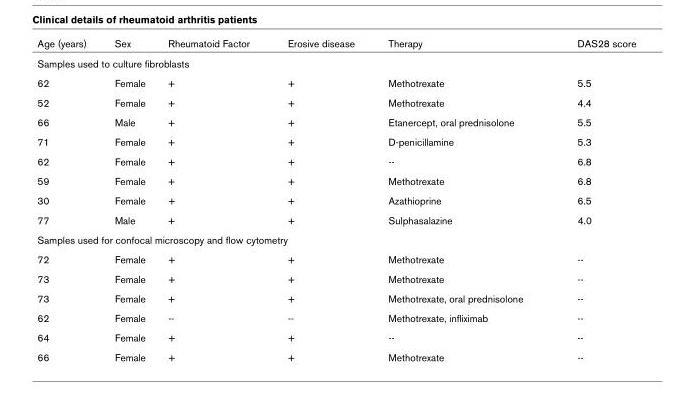table: (36, 36, 635, 362)
table column: (370, 36, 549, 362), (156, 36, 267, 362), (267, 36, 370, 362), (549, 36, 635, 362), (36, 36, 99, 362), (99, 36, 156, 362)
table column header: (36, 36, 635, 52)
table projected row header: (36, 52, 635, 72), (36, 229, 635, 248)
table row: (36, 52, 635, 72), (36, 72, 635, 92), (36, 111, 635, 131), (36, 131, 635, 151), (36, 170, 635, 190), (36, 209, 635, 229), (36, 248, 635, 268), (36, 268, 635, 288), (36, 307, 635, 327), (36, 92, 635, 111), (36, 151, 635, 170), (36, 190, 635, 209), (36, 229, 635, 248), (36, 288, 635, 307), (36, 327, 635, 346), (36, 36, 635, 52), (36, 346, 635, 362)
